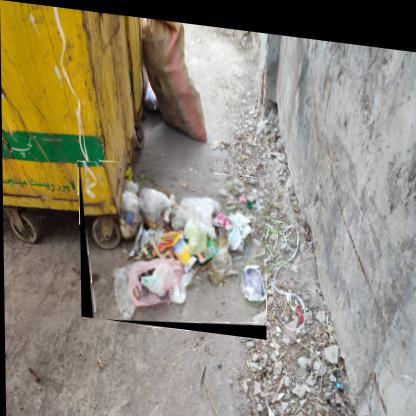Garbage: (80, 155, 268, 335)
